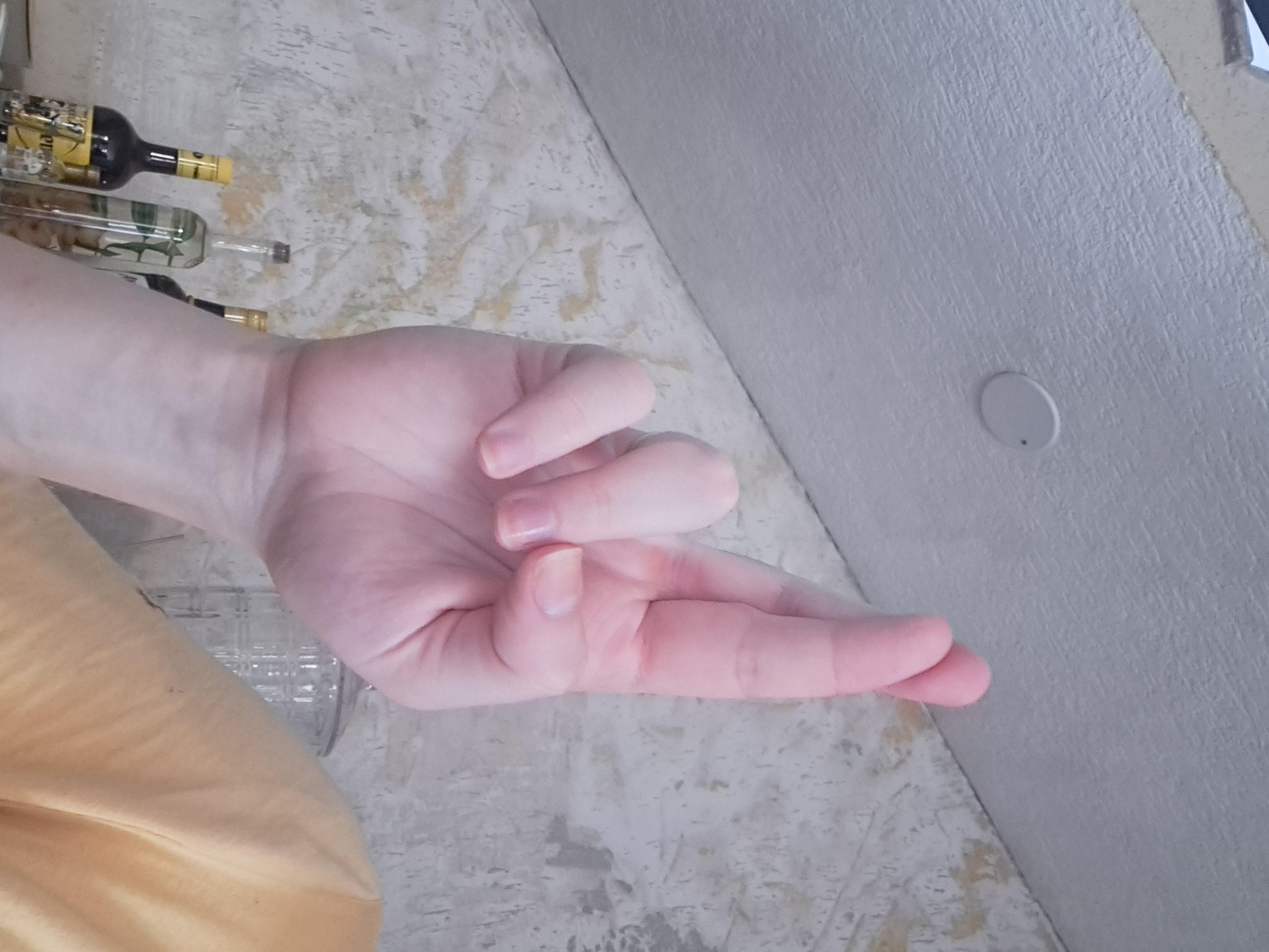R: (404, 192, 980, 776)
